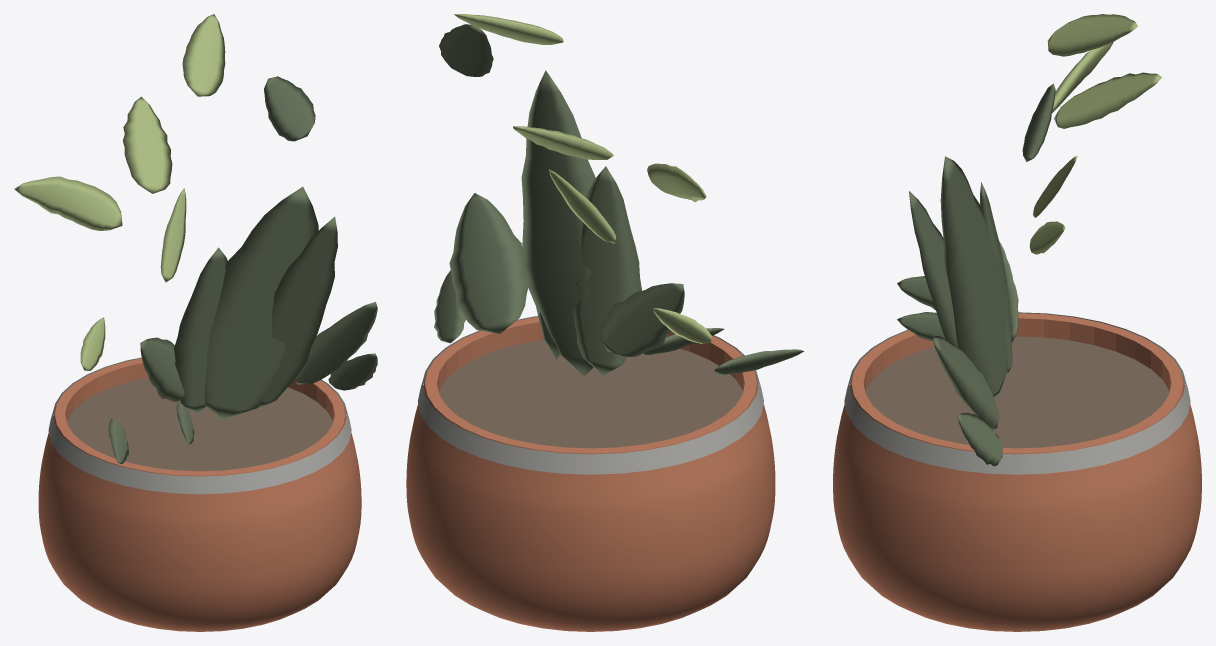
Rendered from NPR_25_1024__MOD__GardenFurniture__PlantersAndPots__PottedPlantTerracotta__Var-04__.glb.
3 renders of one model, left to right at view 1: azimuth 30°, elevation 25°; view 2: azimuth 150°, elevation 25°; view 3: azimuth 270°, elevation 25°, orthographic. The views are drawn at different scales.
Parts seen in each view (by area): view 1: NPR_25_1024__MOD__GardenFurniture__PlantersAndPots__PottedPl; view 2: NPR_25_1024__MOD__GardenFurniture__PlantersAndPots__PottedPl; view 3: NPR_25_1024__MOD__GardenFurniture__PlantersAndPots__PottedPl.
Boxes of the visible parts, x1,y1,x2,y2 form: NPR_25_1024__MOD__GardenFurniture__PlantersAndPots__PottedPl: (14,14,377,631); NPR_25_1024__MOD__GardenFurniture__PlantersAndPots__PottedPl: (406,14,803,631); NPR_25_1024__MOD__GardenFurniture__PlantersAndPots__PottedPl: (833,14,1201,631).
Size of the model in its own units: 0.5877 by 0.9741 by 0.55.
